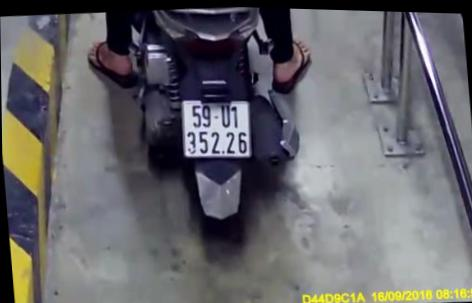LP: (177, 93, 253, 162)
